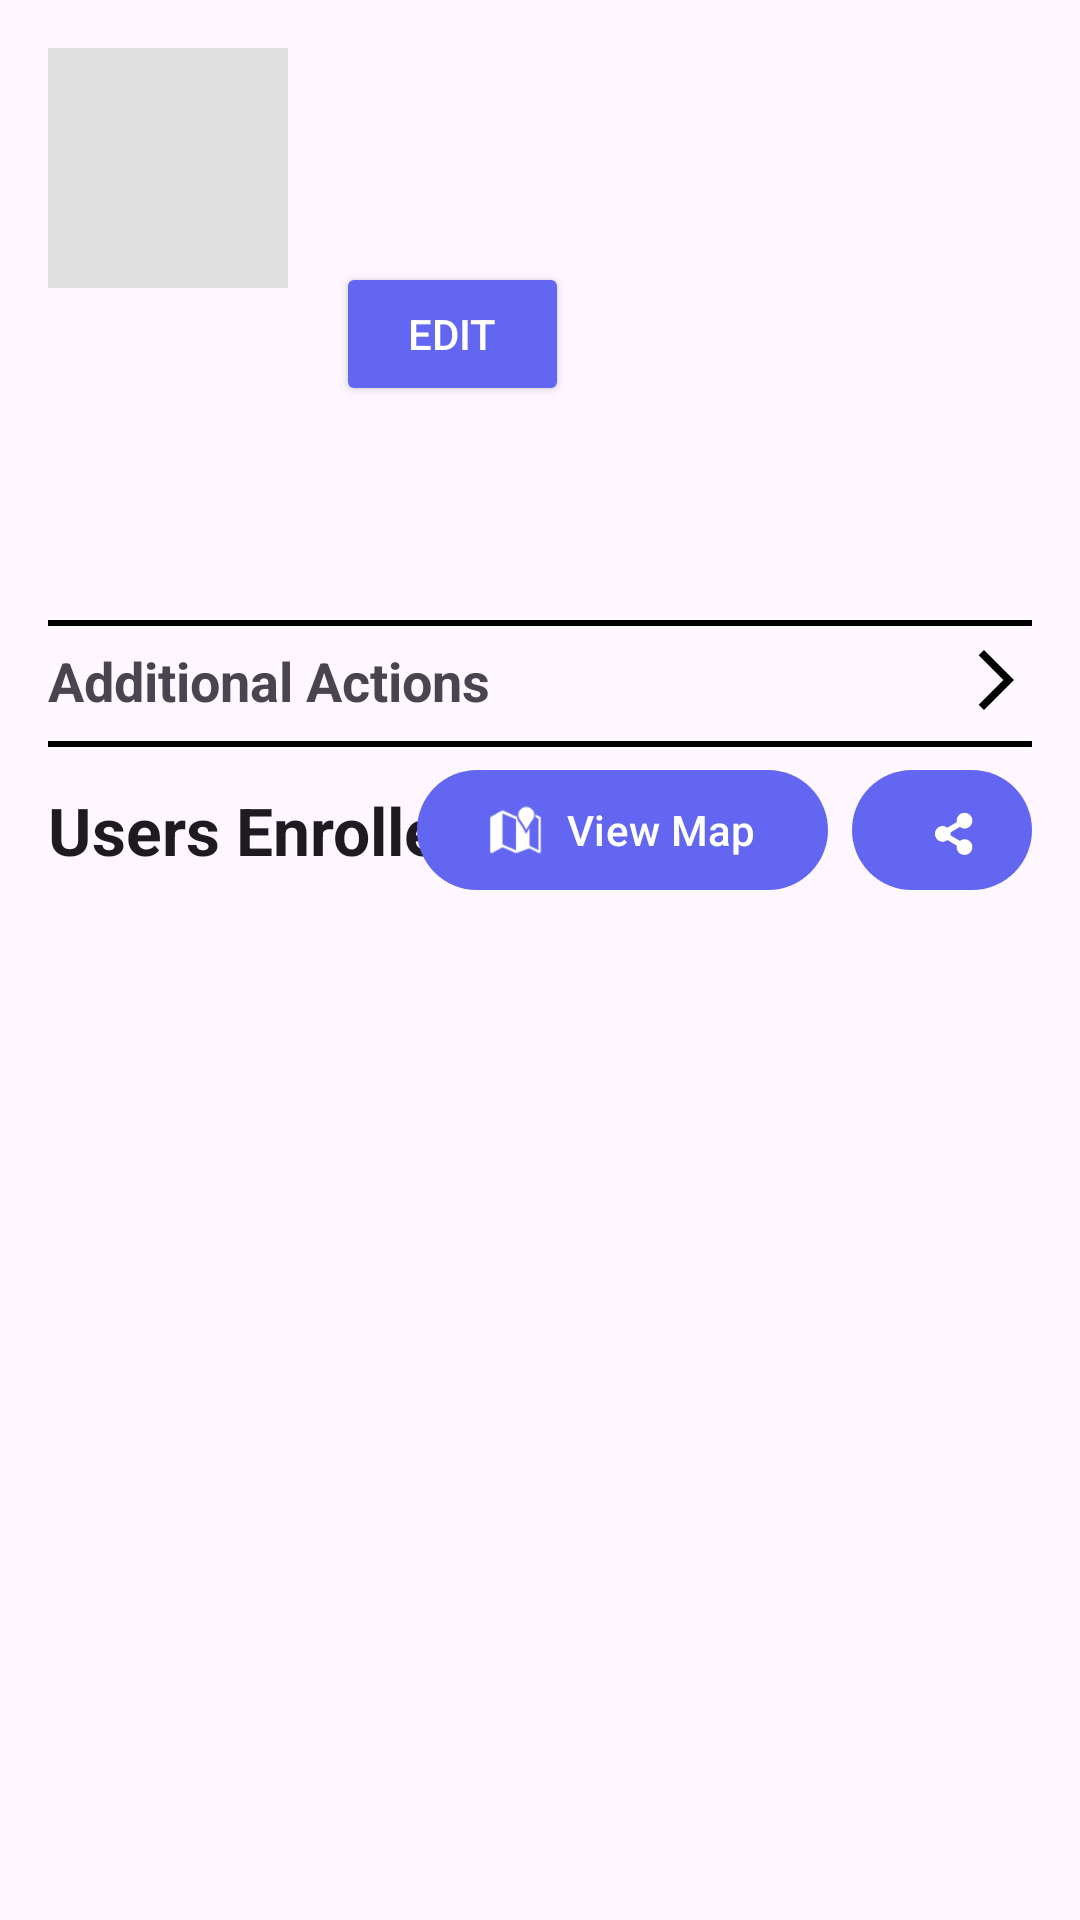

Icon click points for this 1080×1920 phone screenshot, format (x=x, y=y):
share: (x=942, y=830)
